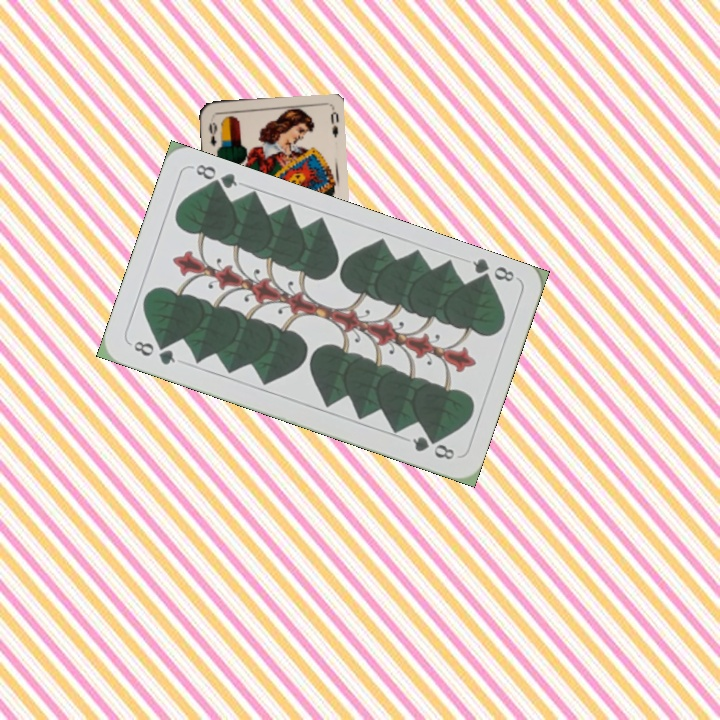EO: (205, 118, 220, 149)
G8: (468, 255, 517, 288), (129, 337, 178, 368)
